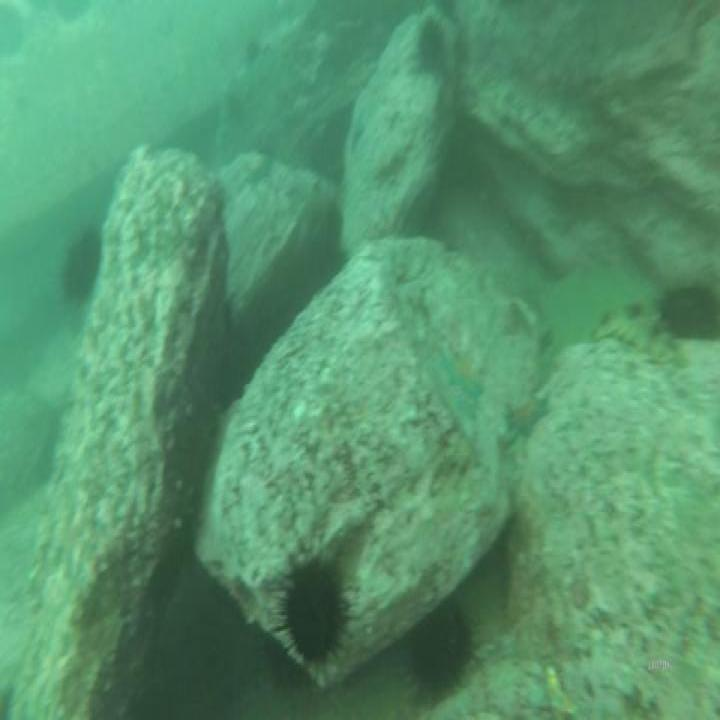echinus: (274, 553, 349, 674), (406, 601, 474, 699), (660, 274, 720, 352), (61, 226, 106, 309), (416, 14, 450, 70)
starfish: (435, 341, 486, 409), (503, 389, 551, 450)
